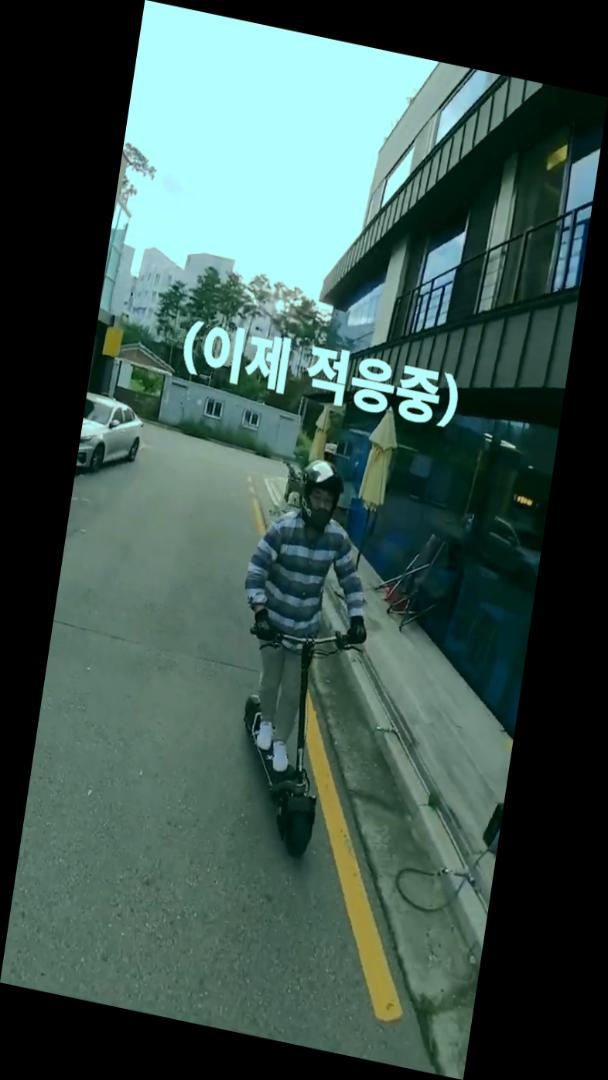helmet: (203, 445, 392, 871)
